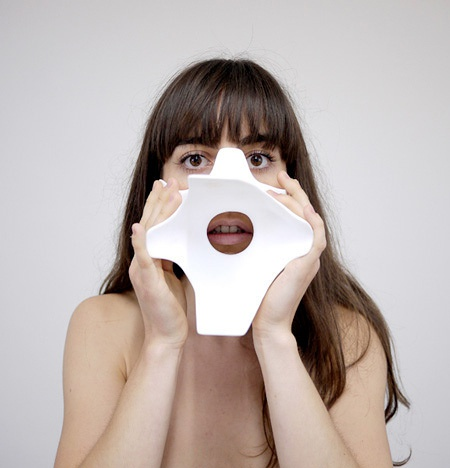face_mask: (154, 106, 289, 278)
